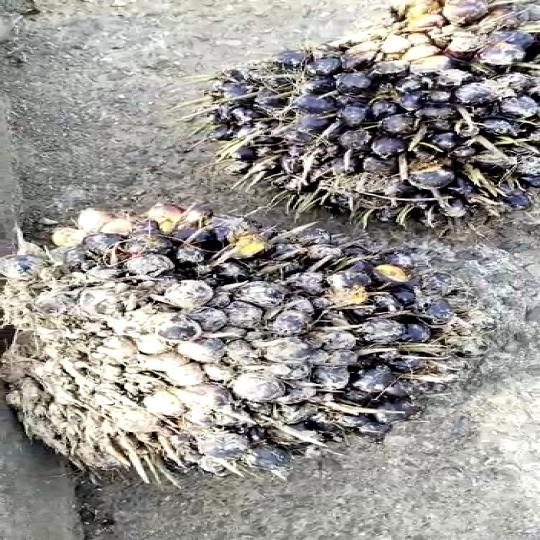mentah: (5, 184, 460, 474), (184, 0, 540, 210)
